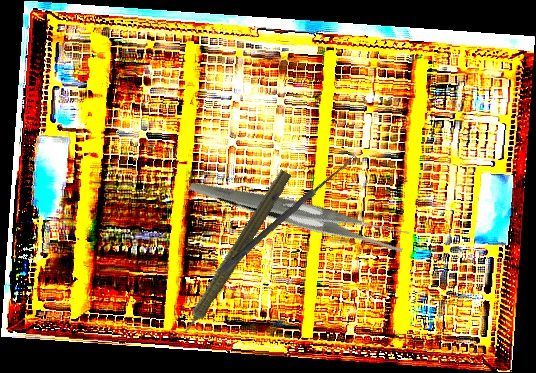Dressing Forceps: (187, 117, 414, 307)
Handpiece: (167, 164, 295, 350)
Surgical Spoon: (219, 152, 358, 276)
